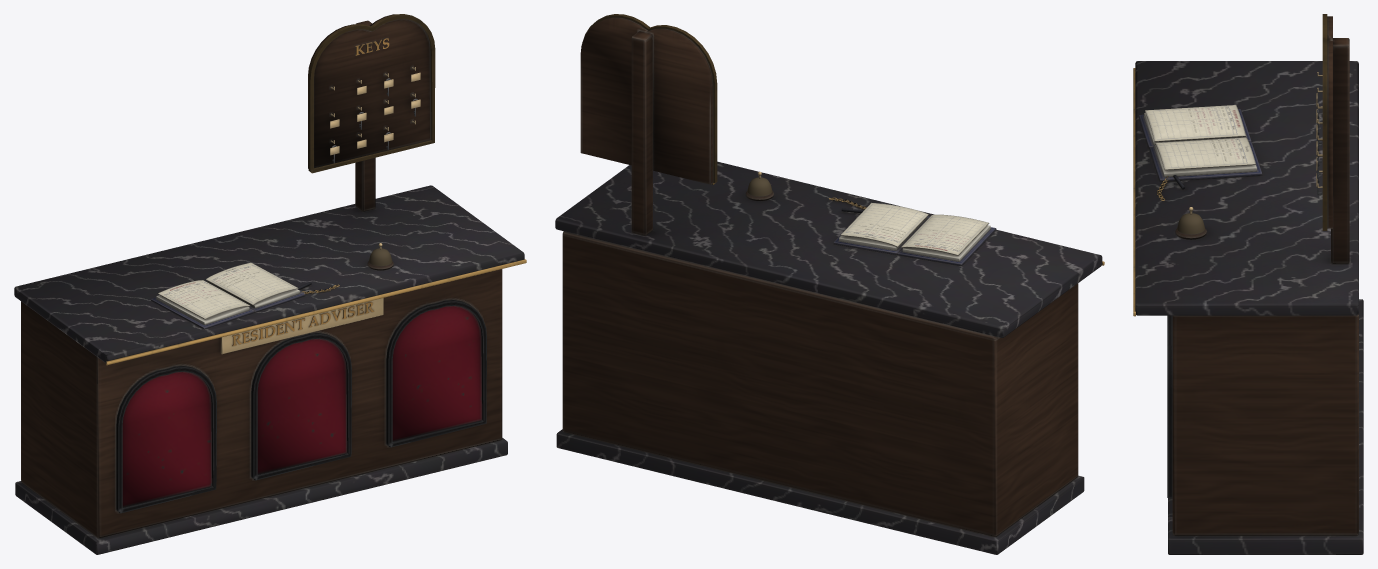
The model's file is RADesk.fbx.
The picture shows the model from 3 angles, left to right: view 1: azimuth 30°, elevation 25°; view 2: azimuth 150°, elevation 25°; view 3: azimuth 270°, elevation 25°; orthographic projection. The views are drawn at different scales.
Parts seen in each view (by area): view 1: RADesk; view 2: RADesk; view 3: RADesk.
Part boxes in pixels (x1=…): RADesk: x1=14, y1=14, x2=526, y2=554; RADesk: x1=555, y1=14, x2=1104, y2=554; RADesk: x1=1133, y1=14, x2=1363, y2=554.
Size of the model in its own units: 622 by 571 by 247.
